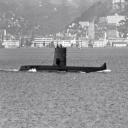submarine: (21, 46, 110, 72)
